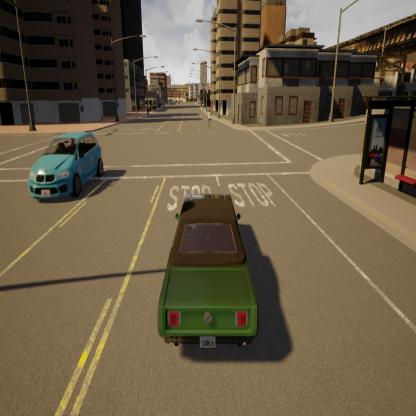Cars: (153, 175, 261, 359), (26, 127, 111, 208)
